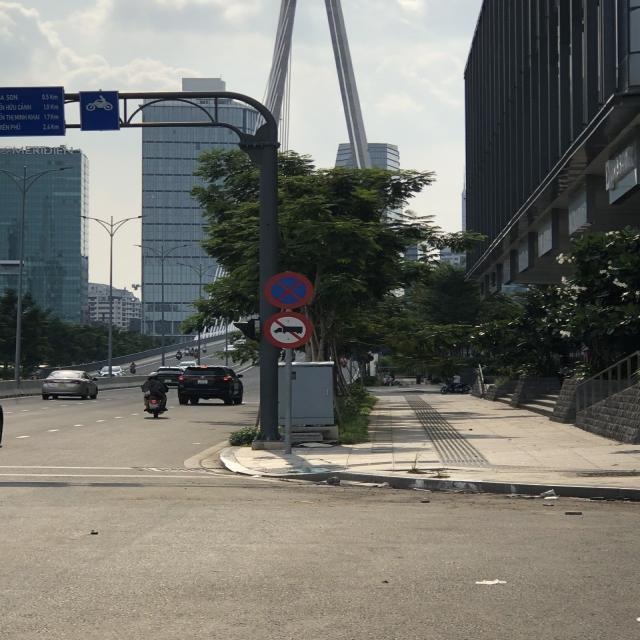Bien bao cam dung xe va do xe: (258, 266, 319, 313)
Bien bao cam xe so-mi ro-mooc: (259, 312, 323, 351)
